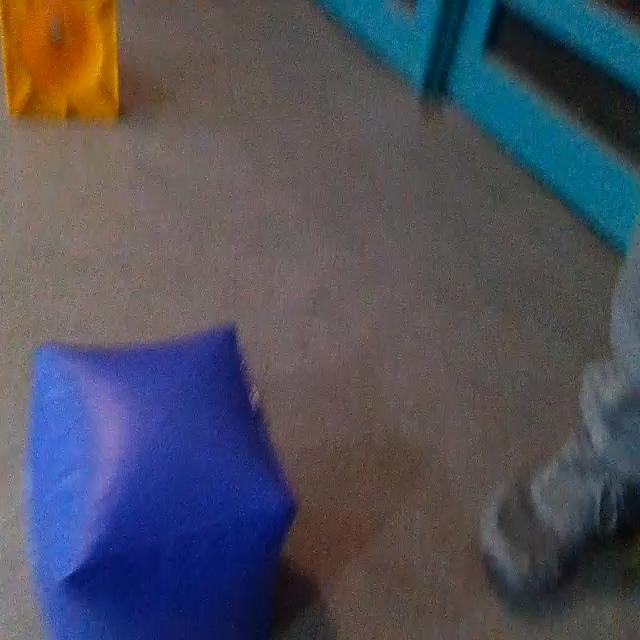cone: (0, 0, 125, 116)
cube: (32, 322, 294, 638)
